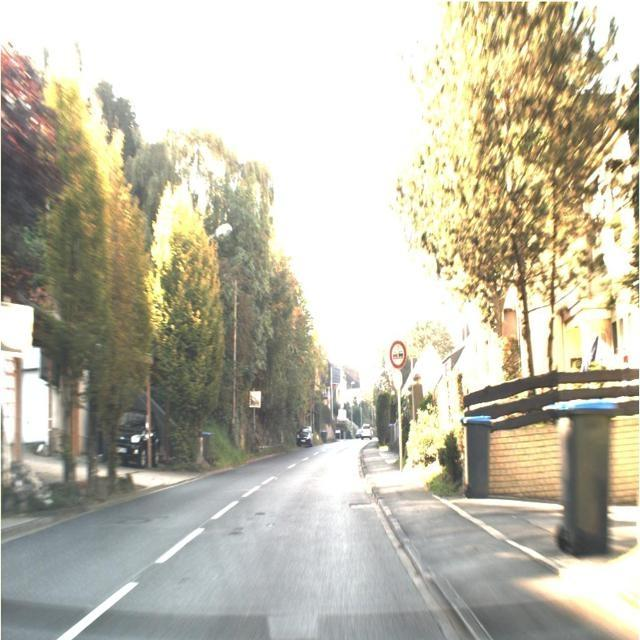forb_overtake: (389, 339, 407, 369)
